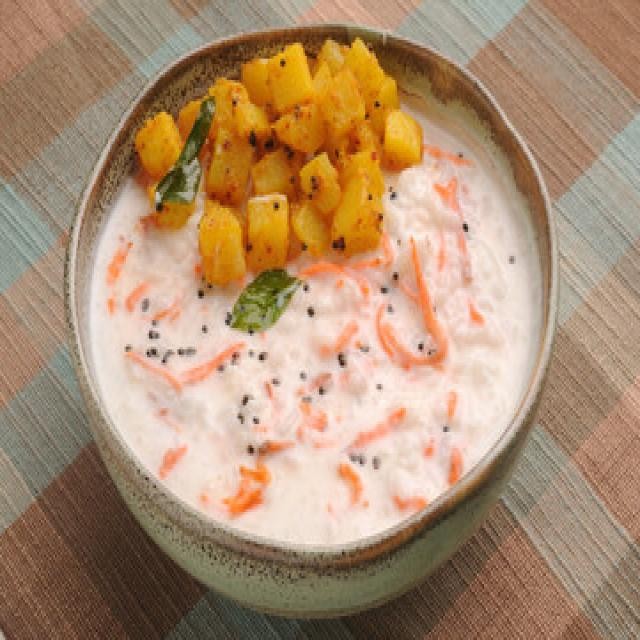CURD RICE: (95, 112, 542, 528)
VEGGIES: (139, 35, 421, 292)
